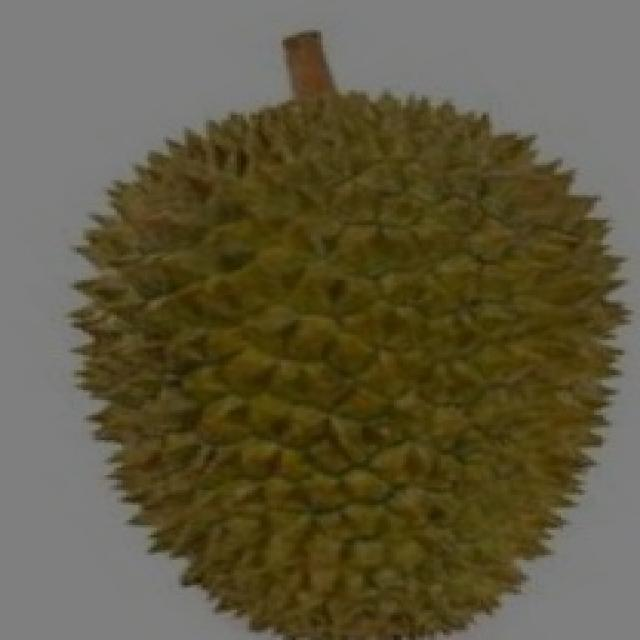fruit: (289, 250, 640, 640), (34, 272, 400, 640)
